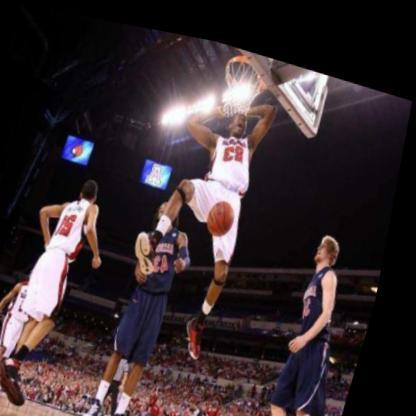basketball: (209, 187, 244, 230)
